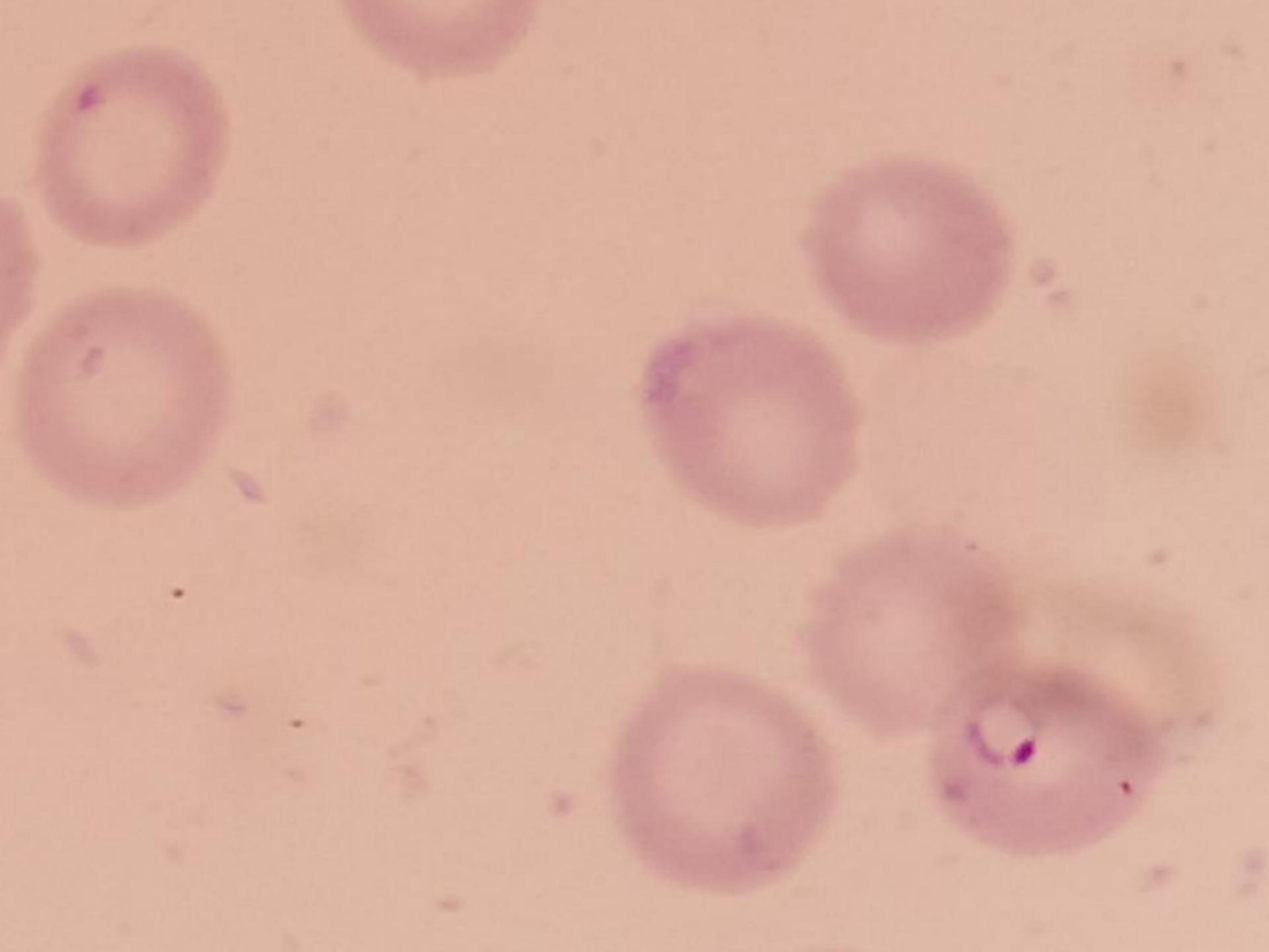Infected: (921, 657, 1159, 854)
Uninfected: (632, 309, 867, 525), (610, 666, 828, 895), (13, 289, 231, 501), (809, 523, 1018, 724), (29, 51, 228, 251), (804, 162, 1009, 347)
